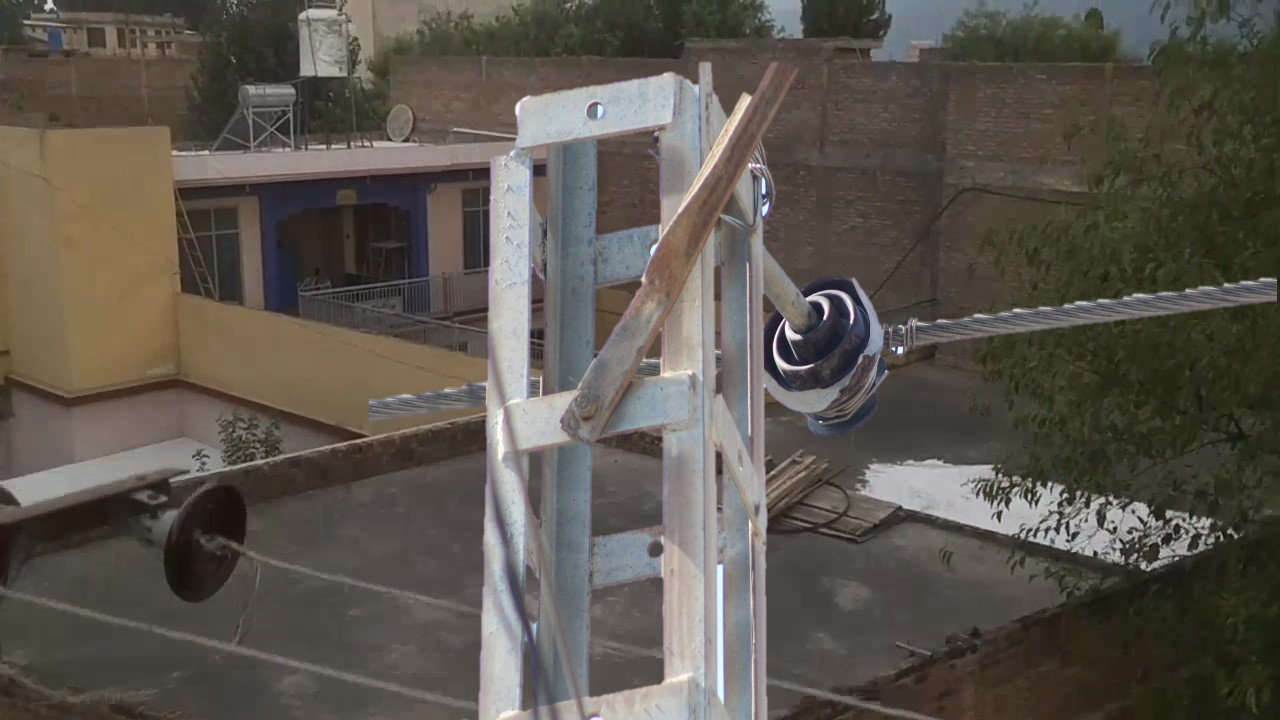defect_pin: (763, 264, 896, 438)
insulator_disc: (157, 470, 254, 615)
